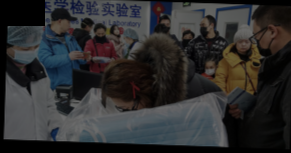with_mask: (11, 40, 40, 65), (251, 28, 274, 57), (198, 21, 211, 35), (203, 63, 216, 76), (181, 34, 193, 46), (94, 31, 106, 42), (159, 22, 170, 33), (122, 35, 131, 47), (87, 25, 94, 35)
without_mask: (235, 39, 251, 53), (60, 19, 71, 33), (113, 27, 120, 36)
